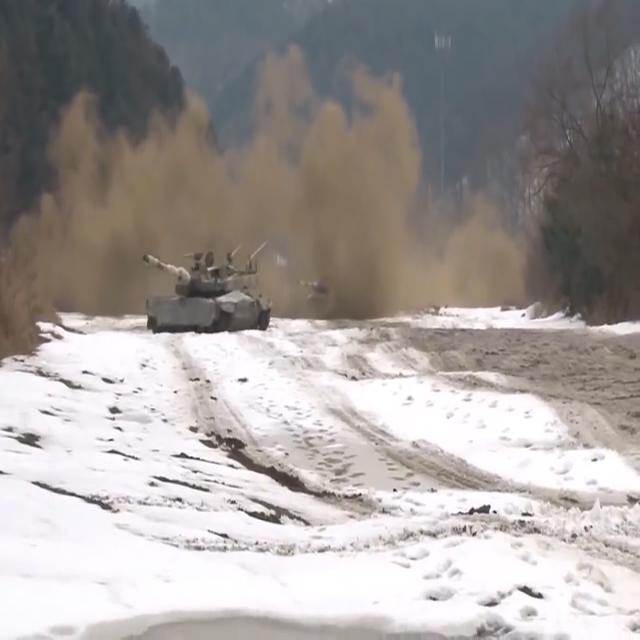korea tank: (144, 237, 274, 337)
